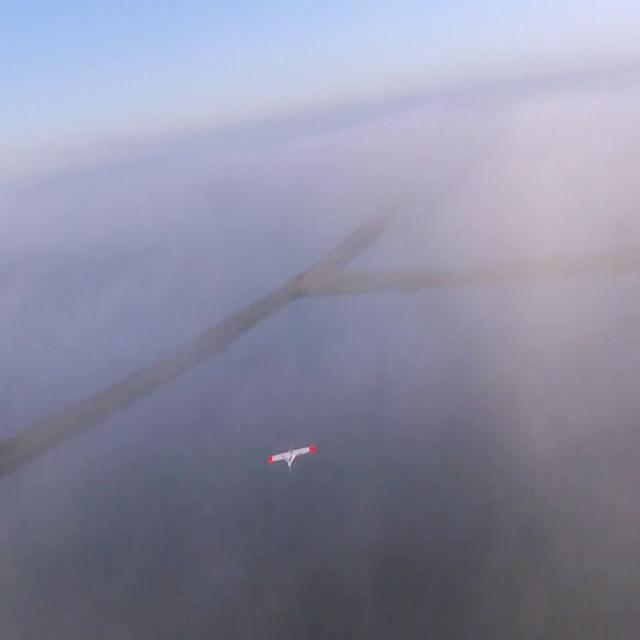iha: (265, 438, 315, 468)
